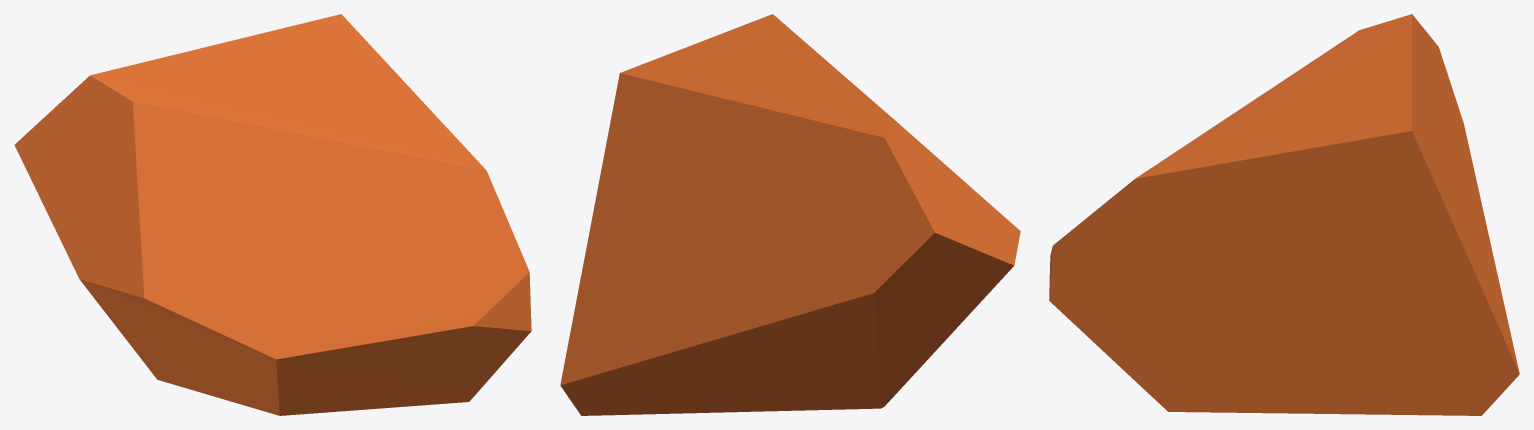
The model's file is SMALLROCK04.fbx.
3 views of the same model, side by side, from view 1: azimuth 30°, elevation 25°; view 2: azimuth 150°, elevation 25°; view 3: azimuth 270°, elevation 25° (orthographic). The views are drawn at different scales.
Visible parts, largest first — view 1: SMALLROCK04; view 2: SMALLROCK04; view 3: SMALLROCK04.
Boxes of the visible parts, bbox=[...] form: SMALLROCK04: bbox=[14, 14, 531, 415]; SMALLROCK04: bbox=[560, 14, 1020, 415]; SMALLROCK04: bbox=[1049, 14, 1519, 415].
Bounding box in the file's own units: 31.76 × 28.49 × 42.64.
